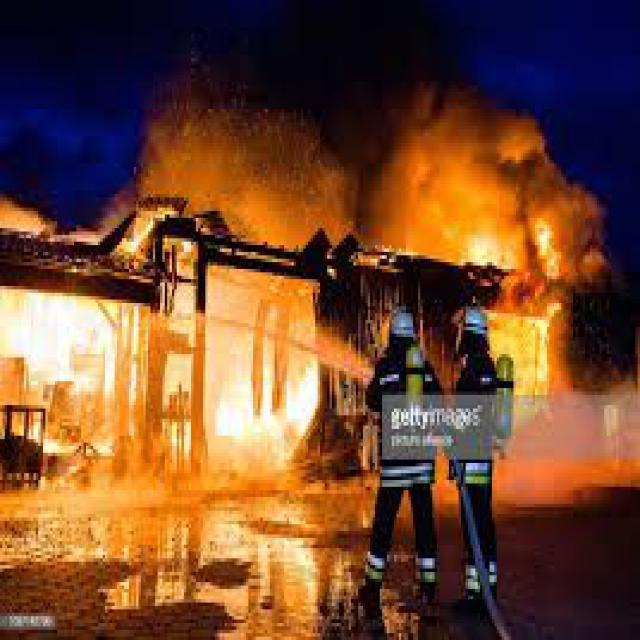Fire: (0, 296, 123, 454), (206, 344, 338, 454), (470, 216, 566, 289), (509, 306, 577, 391), (107, 216, 215, 267)
Smoke: (140, 50, 348, 233), (357, 87, 626, 216), (277, 12, 478, 82), (2, 182, 114, 234)
